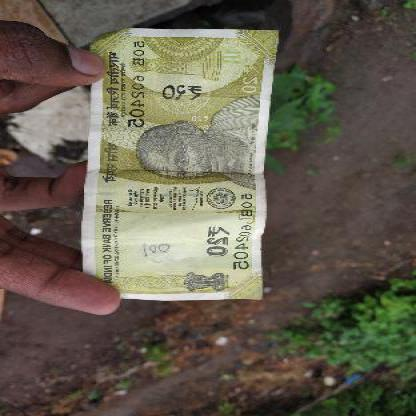New20Front: (93, 35, 256, 296)
